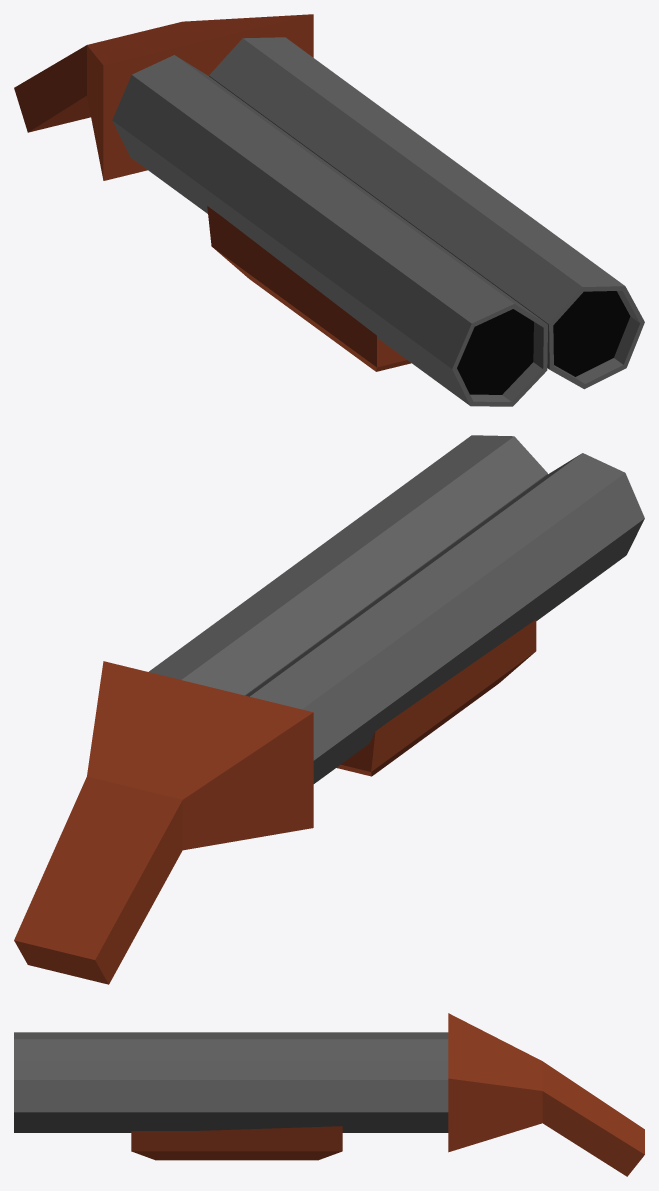
Rendered from Escopeta_Prop.fbx.
3 renders of one model, top to bottom at view 1: azimuth 30°, elevation 25°; view 2: azimuth 150°, elevation 25°; view 3: azimuth 270°, elevation 25°, orthographic. The views are drawn at different scales.
Parts seen in each view (by area): view 1: Cylinder, Cube; view 2: Cylinder, Cube; view 3: Cylinder, Cube.
Part boxes in pixels (x1=…): Cylinder: x1=112, y1=37, x2=644, y2=406; Cube: x1=14, y1=14, x2=411, y2=371; Cylinder: x1=149, y1=435, x2=644, y2=783; Cube: x1=14, y1=619, x2=536, y2=984; Cylinder: x1=14, y1=1032, x2=448, y2=1132; Cube: x1=131, y1=1013, x2=644, y2=1176.
Size of the model in its own units: 121 by 102 by 491.
